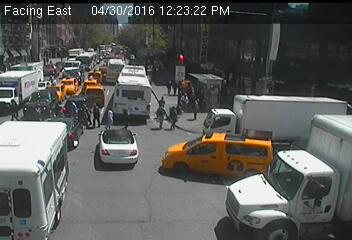neg: (25, 198, 52, 234), (54, 132, 81, 168), (249, 131, 274, 164), (18, 154, 42, 187), (298, 176, 322, 208), (23, 120, 45, 149), (113, 140, 134, 168), (228, 70, 248, 97), (168, 50, 188, 77), (209, 74, 227, 99), (233, 37, 249, 59), (51, 50, 67, 71), (27, 69, 43, 90), (249, 71, 264, 92), (200, 127, 215, 148), (5, 46, 19, 65), (121, 54, 134, 71), (16, 28, 28, 44), (82, 67, 93, 81), (97, 58, 107, 71)
pos: (187, 94, 209, 123), (115, 105, 136, 132), (63, 98, 82, 124), (103, 107, 122, 132), (154, 105, 172, 129), (3, 98, 21, 122), (165, 107, 183, 130), (88, 102, 105, 125), (178, 90, 194, 111), (162, 79, 174, 95)
